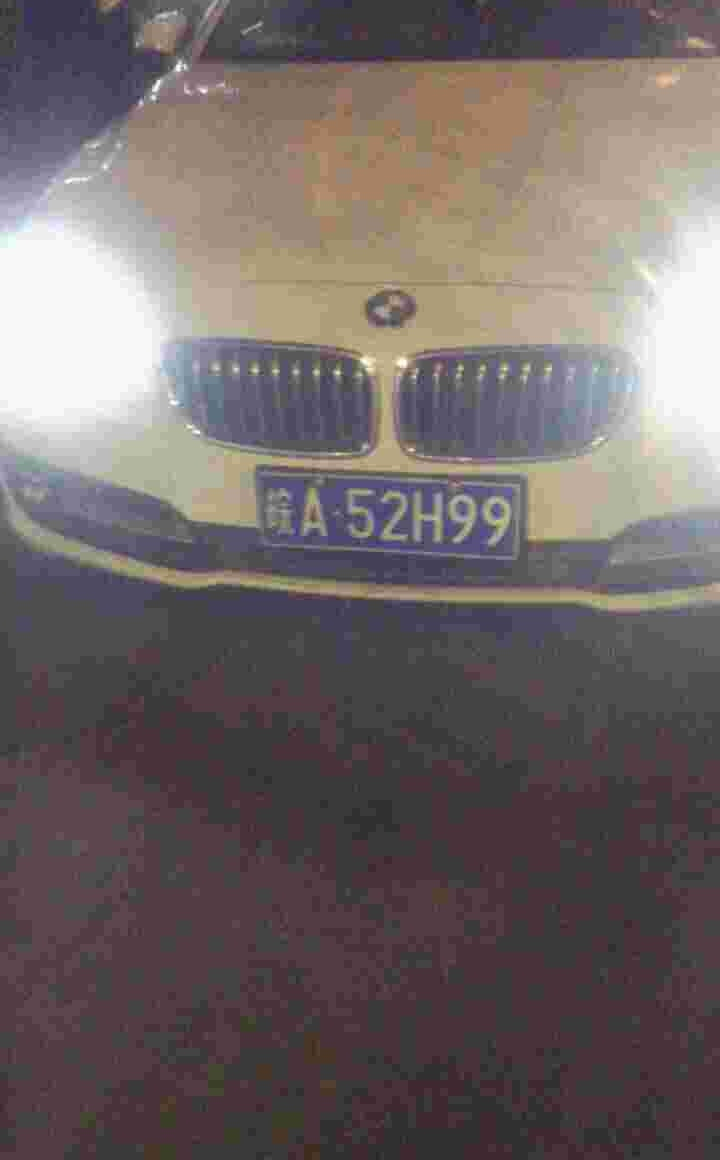license_plate: (264, 478, 526, 556)
